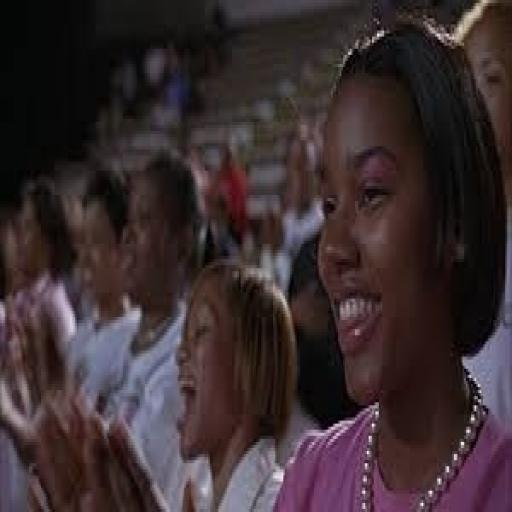clapping: (2, 6, 508, 509)
